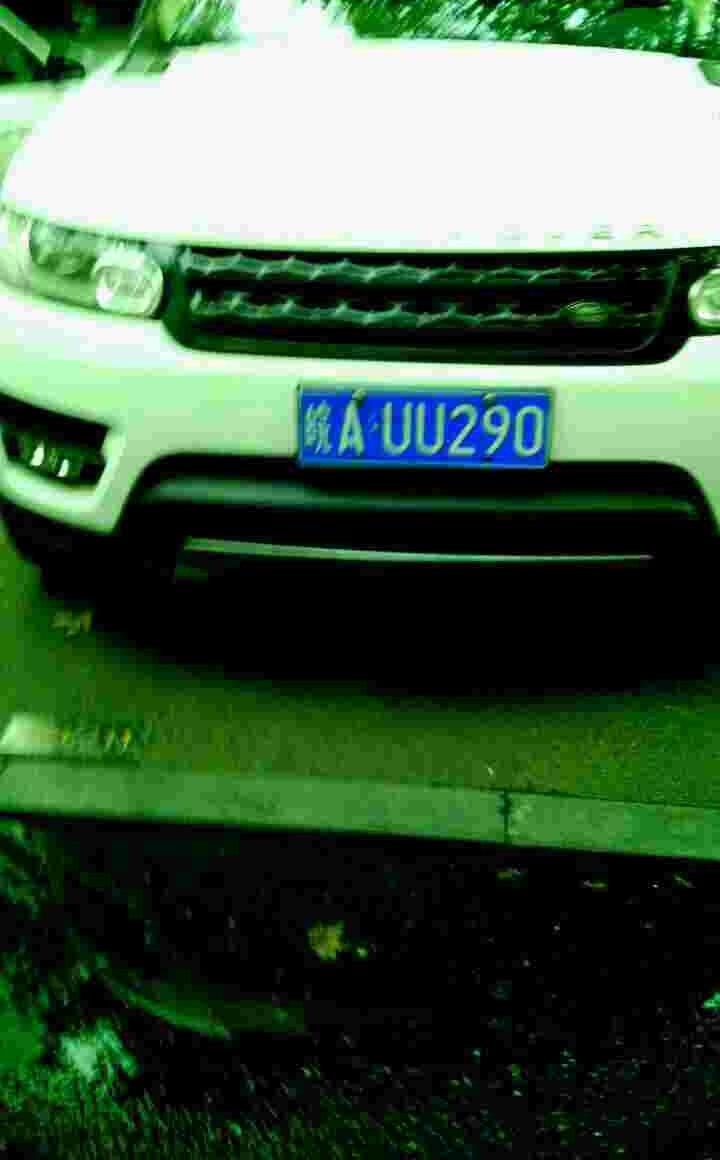plate: (297, 385, 557, 473)
